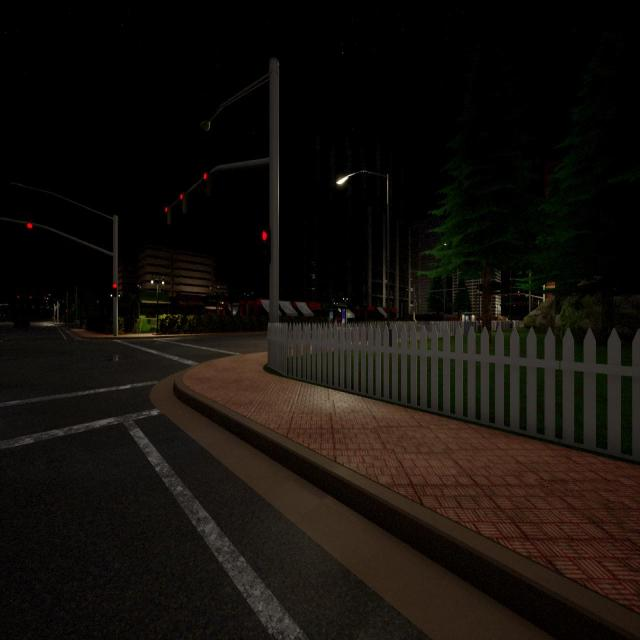Vehicle: (13, 312, 32, 334)
traffic_light: (260, 229, 271, 265), (180, 192, 188, 215), (165, 207, 171, 225), (112, 283, 118, 298), (203, 172, 208, 181), (27, 222, 32, 229), (66, 309, 67, 315), (494, 294, 496, 297), (29, 296, 32, 298), (17, 296, 19, 298), (504, 294, 506, 296), (518, 294, 520, 296), (44, 297, 46, 299), (32, 306, 34, 308)
